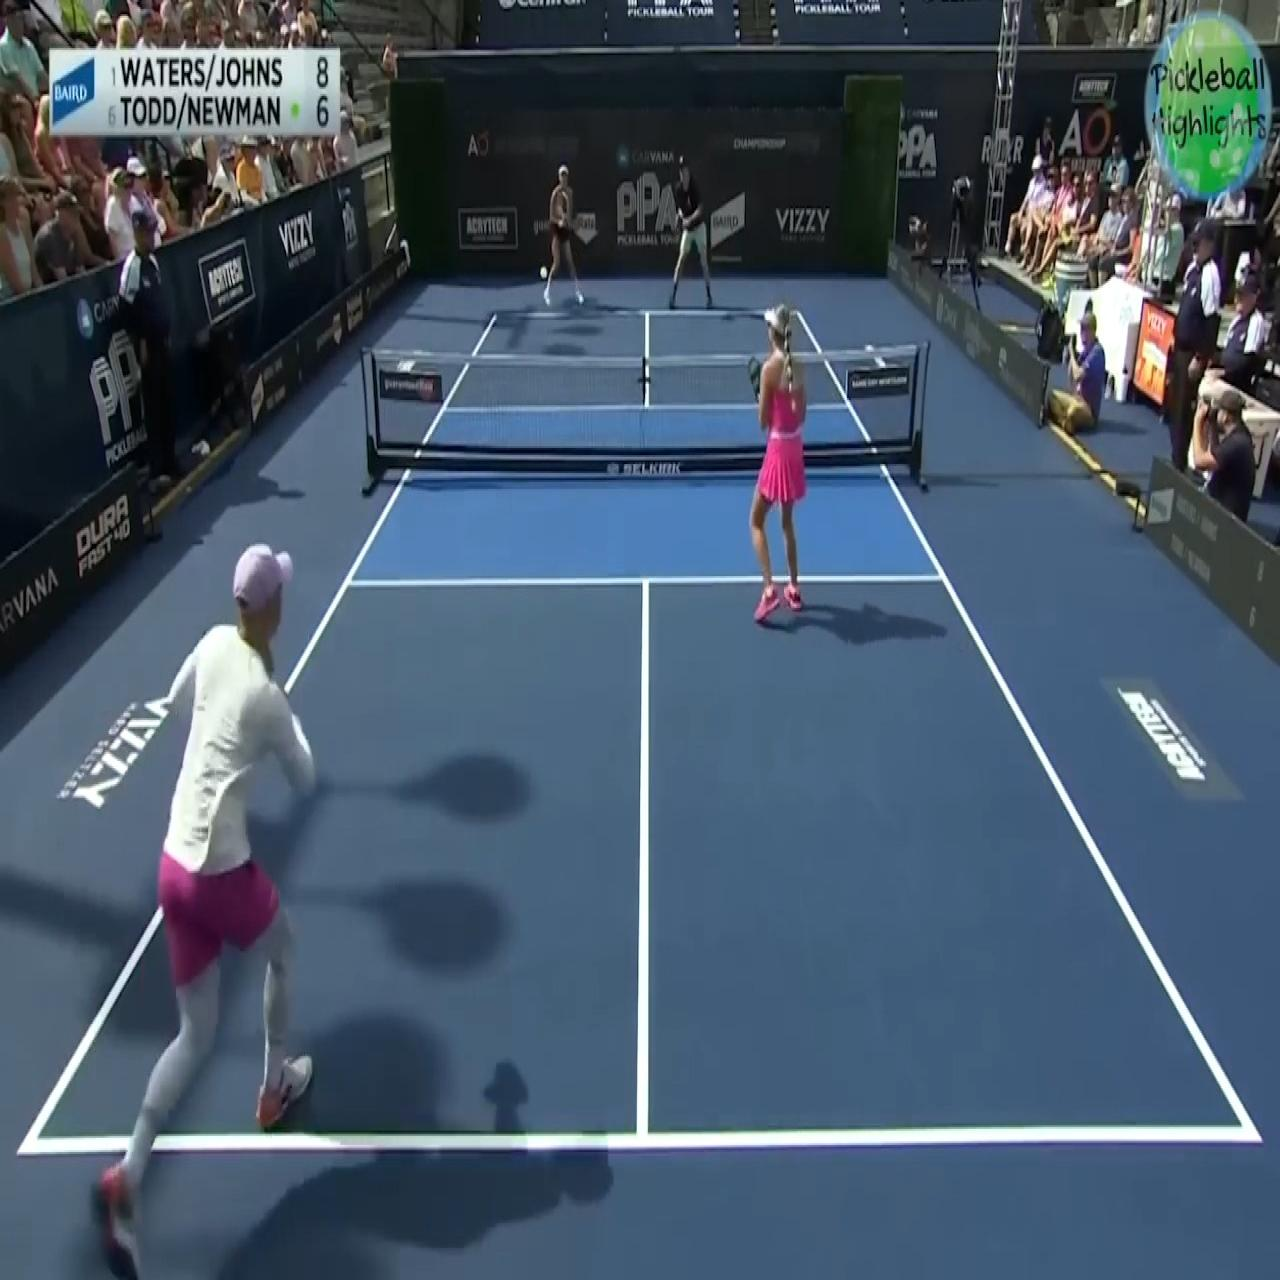Pickleball: (538, 261, 550, 282)
